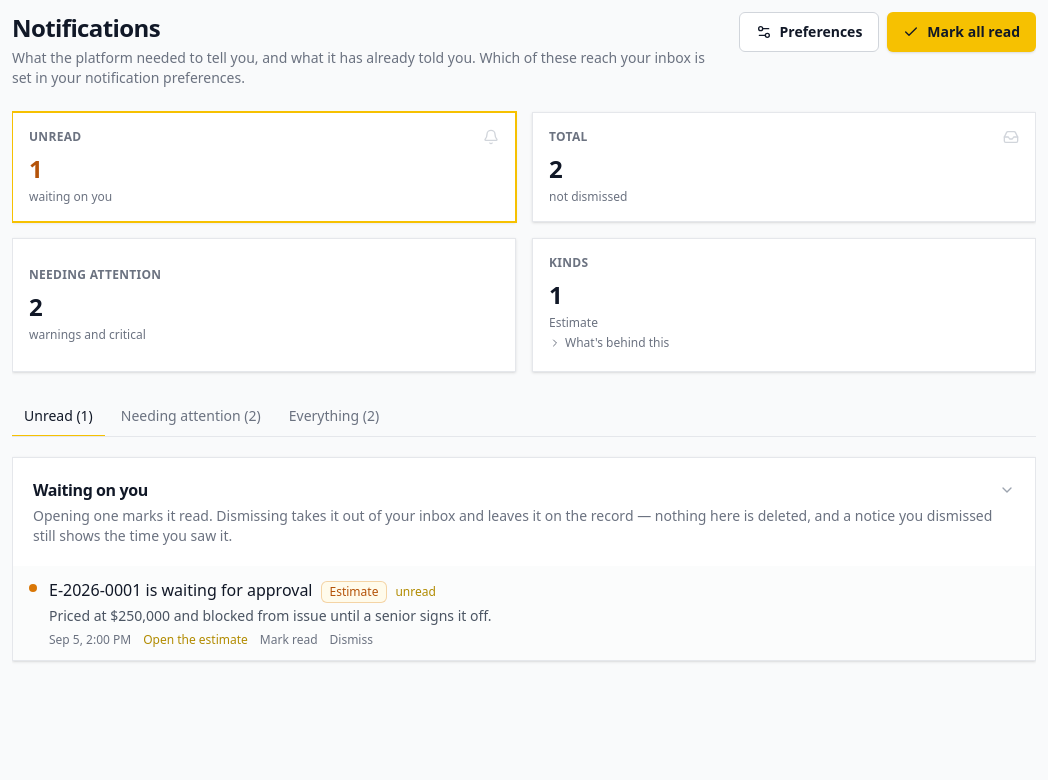
the notifications screen › shows everything from the total tile and returns from the unread one
Expected: the text "Waiting on you" is shown, top-left (33, 479), bottom-right (148, 501)
Expected: the text "Already seen" is not shown
Click the button with aria-label "Show everything, read and unread" at {"x": 568, "y": 136}, box top-left (532, 112), bottom-right (1036, 222)
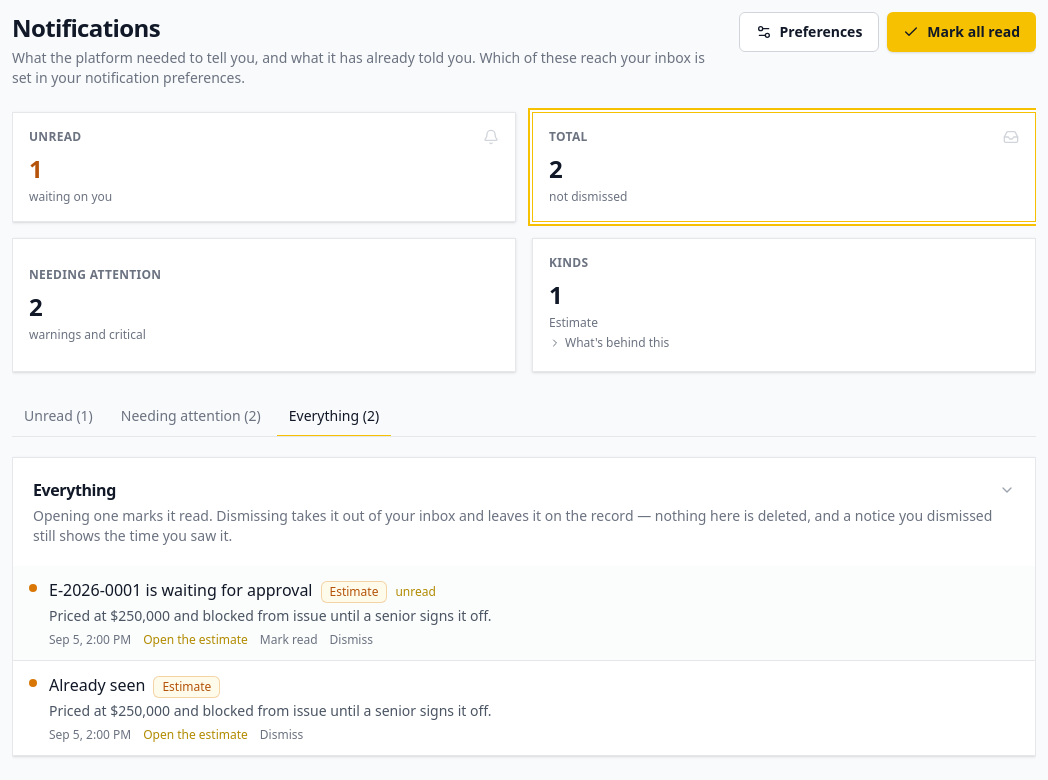
Expected: the text "Already seen" is shown, top-left (49, 673), bottom-right (145, 697)
Click the button with aria-label "Show only what is unread" at {"x": 55, "y": 136}, box top-left (12, 112), bottom-right (516, 222)
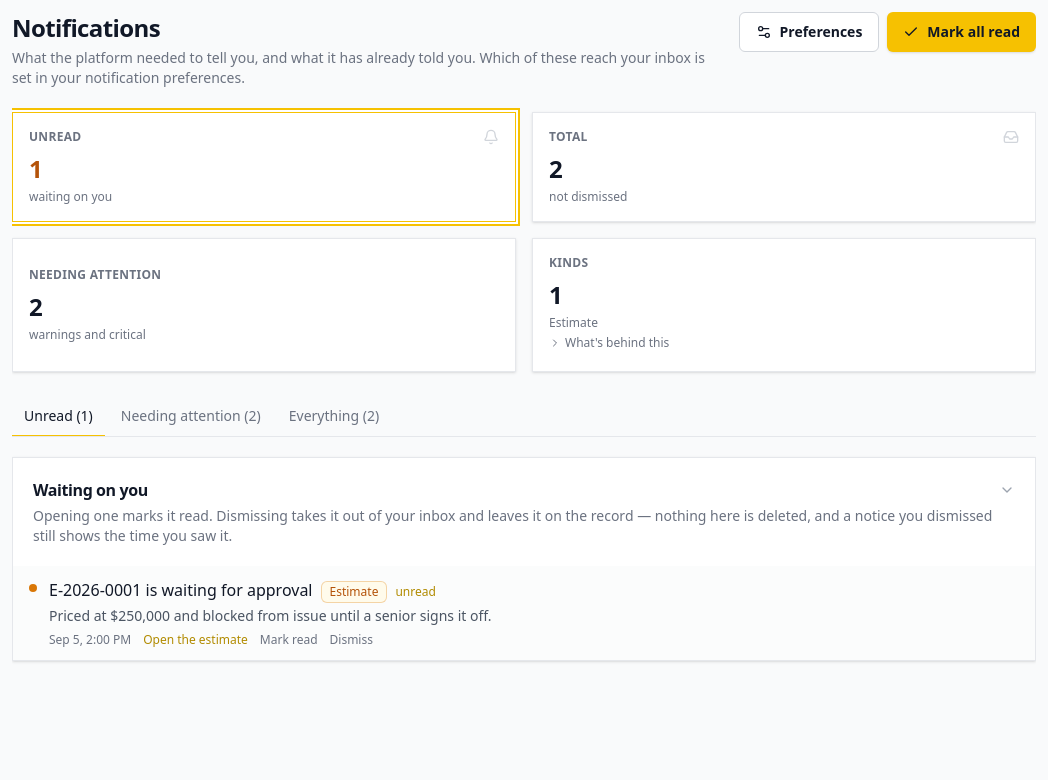
Expected: the text "Already seen" is gone
